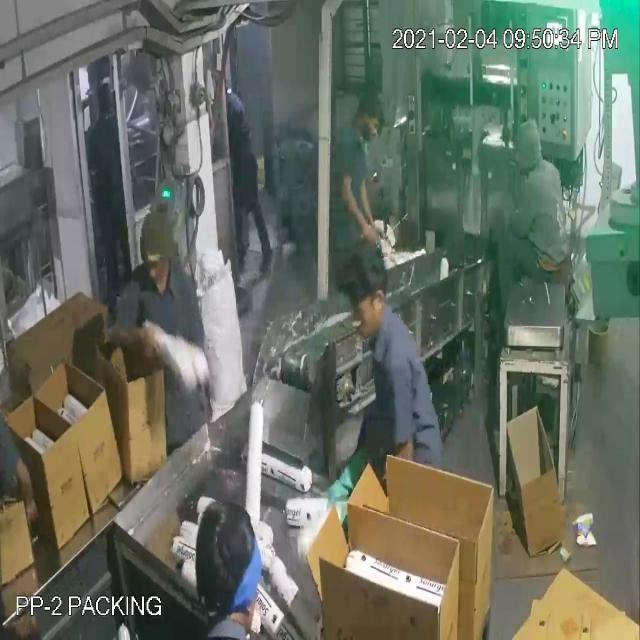No_Gloves: (27, 55, 360, 482)
